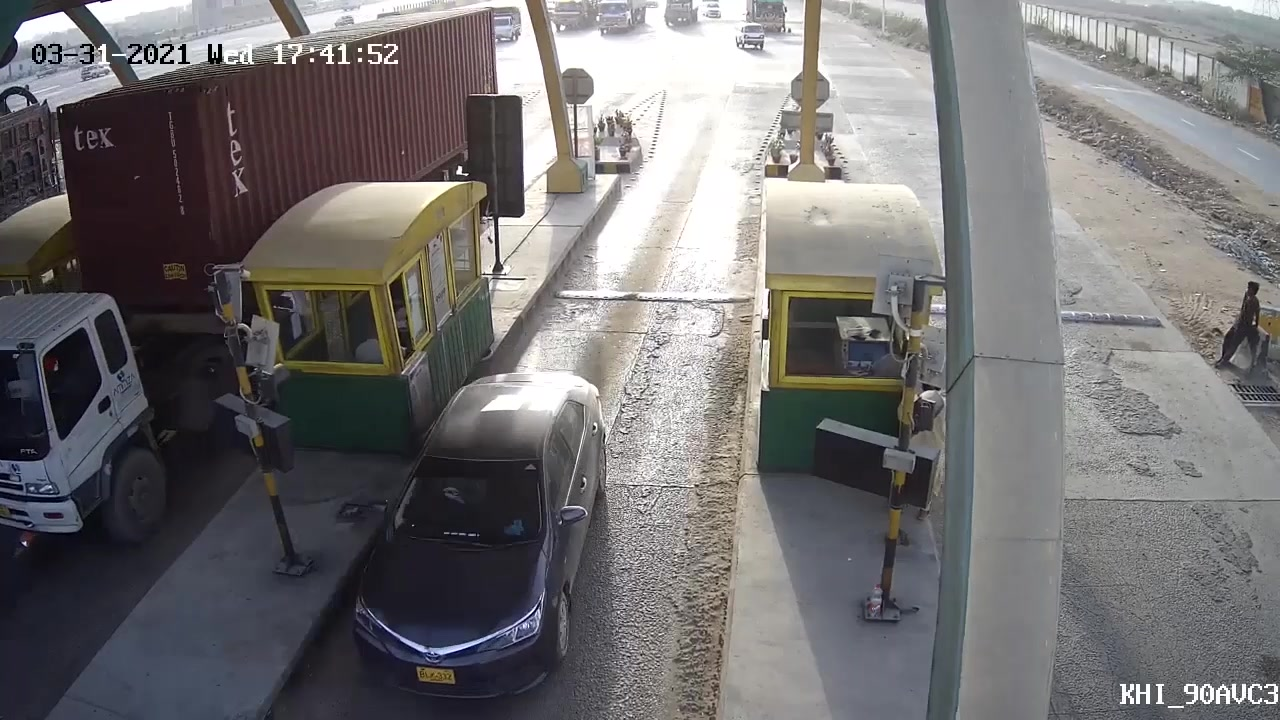F1: (335, 368, 613, 709)
